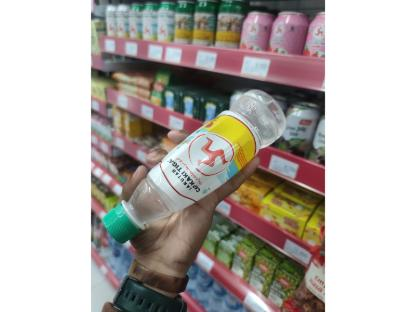Plastic Bottle: (90, 80, 296, 263)
